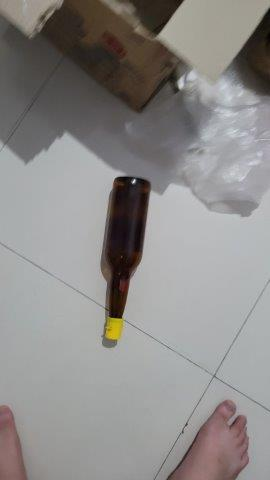botolkaca: (100, 175, 152, 346)
